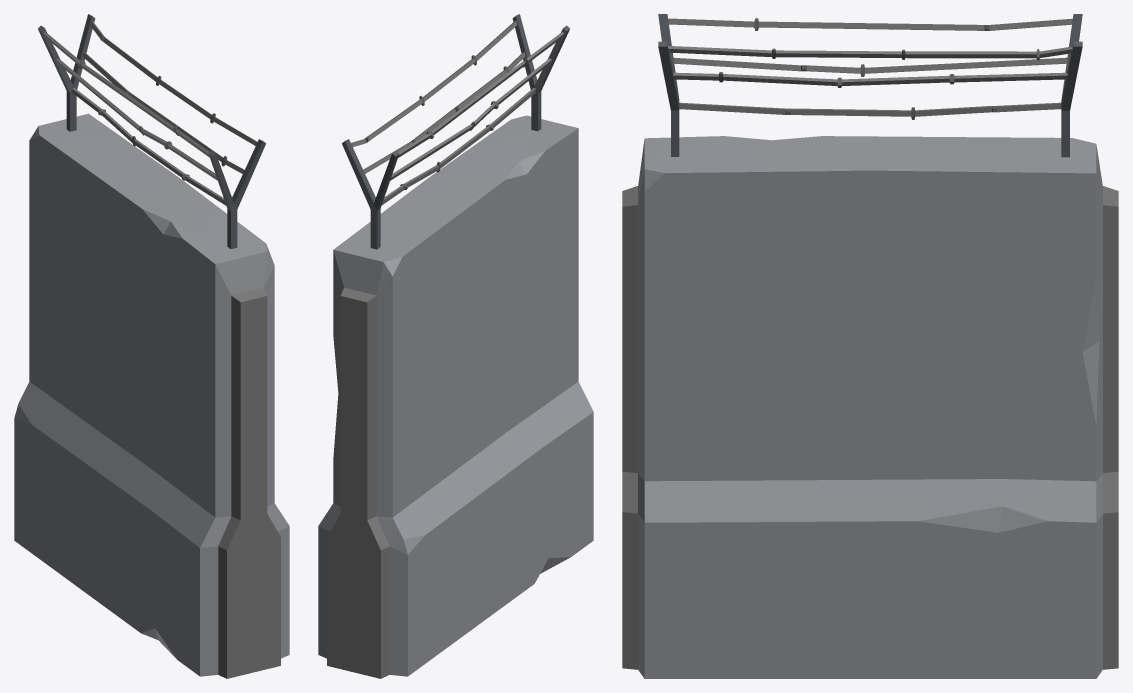
Rendered from Wall.fbx.
3 renders of one model, left to right at view 1: azimuth 30°, elevation 25°; view 2: azimuth 150°, elevation 25°; view 3: azimuth 270°, elevation 25°, orthographic. The views are drawn at different scales.
Visible parts, largest first — view 1: SM_Prop_BaseWall_01__7_; view 2: SM_Prop_BaseWall_01__7_; view 3: SM_Prop_BaseWall_01__7_.
Part boxes in pixels (x1,y1,x2,y2): SM_Prop_BaseWall_01__7_: (14, 14, 289, 678); SM_Prop_BaseWall_01__7_: (318, 14, 593, 678); SM_Prop_BaseWall_01__7_: (622, 14, 1118, 678).
Bounding box in the file's own units: 50.71 × 278 × 200.
